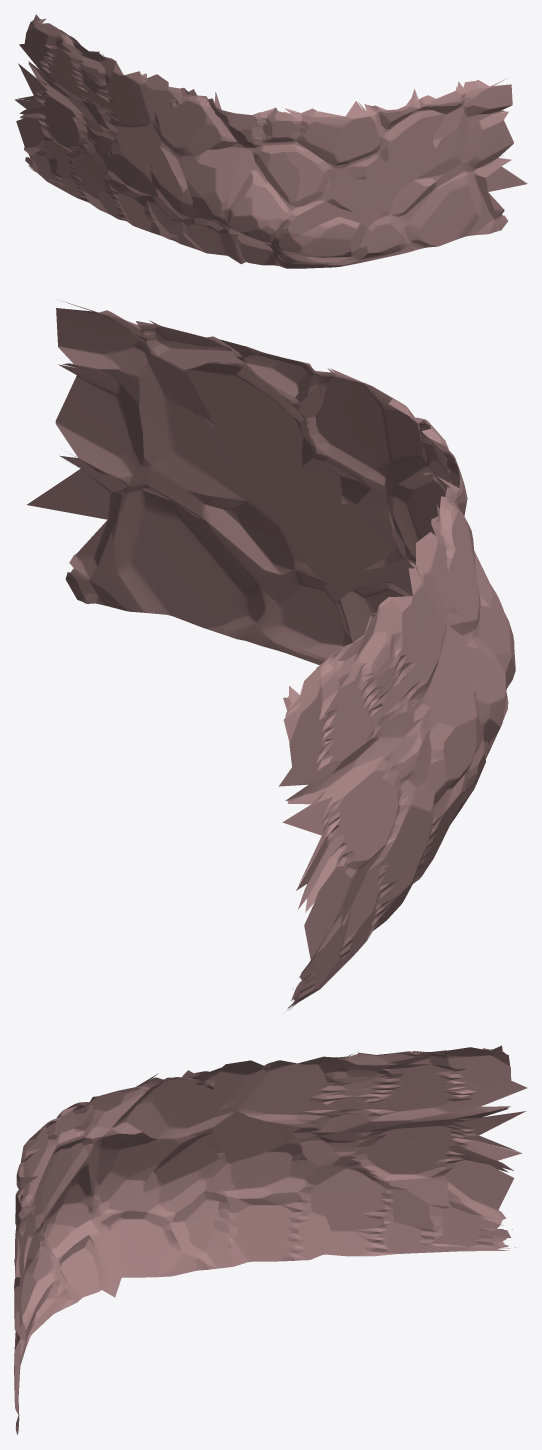
The model's file is plateau.fbx_Rock_PlateauLODs.fbx.
The picture shows the model from 3 angles, top to bottom: view 1: azimuth 30°, elevation 25°; view 2: azimuth 150°, elevation 25°; view 3: azimuth 270°, elevation 25°; orthographic projection. The views are drawn at different scales.
Parts seen in each view (by area): view 1: Rock Plateau_LOD0; view 2: Rock Plateau_LOD0; view 3: Rock Plateau_LOD0.
Boxes of the visible parts, x1,y1,x2,y2 form: Rock Plateau_LOD0: [14, 14, 527, 268]; Rock Plateau_LOD0: [27, 300, 515, 1013]; Rock Plateau_LOD0: [14, 1045, 527, 1434].
Size of what is drawn, in the model's own units: 5498 by 2643 by 5622.
